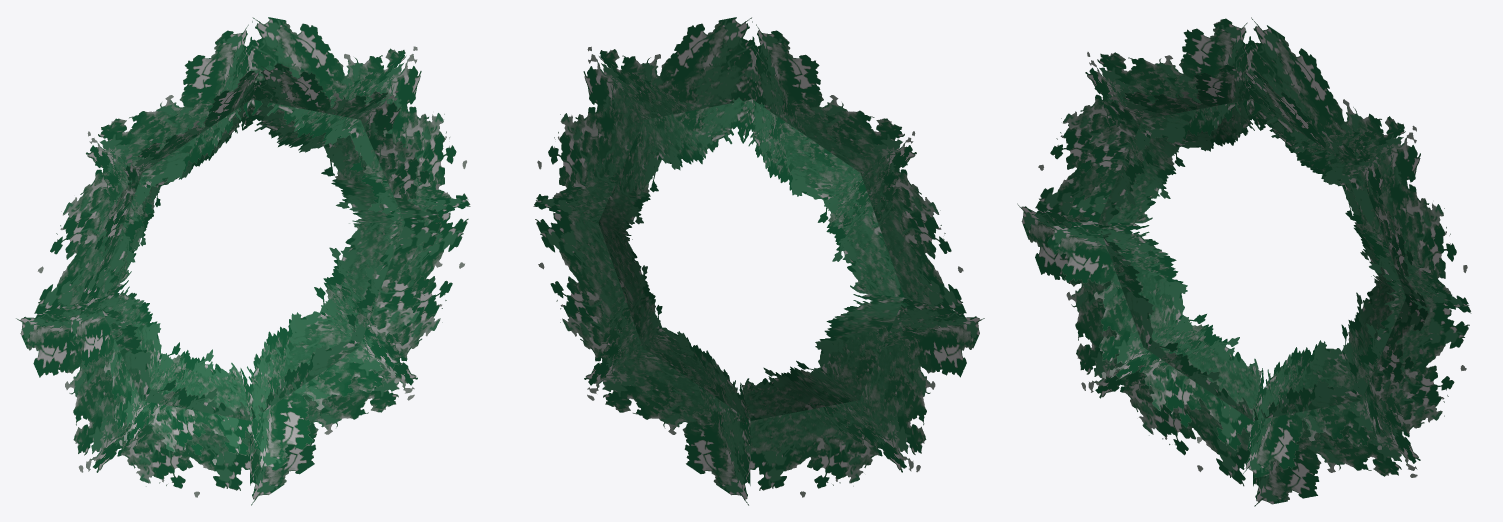
Rendered from Wreath02_Art.fbx.
3 renders of one model, left to right at view 1: azimuth 30°, elevation 25°; view 2: azimuth 150°, elevation 25°; view 3: azimuth 330°, elevation 25°, orthographic.
Visible parts, largest first — view 1: Wreath02_Art; view 2: Wreath02_Art; view 3: Wreath02_Art.
Boxes of the visible parts, x1=… form: Wreath02_Art: x1=16, y1=17, x2=470, y2=505; Wreath02_Art: x1=533, y1=17, x2=984, y2=505; Wreath02_Art: x1=1017, y1=17, x2=1471, y2=506.
Bounding box in the file's own units: 1.58 × 1.58 × 0.1569.
